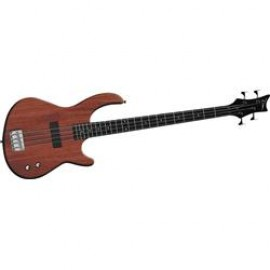ElectricGuitar: (1, 88, 268, 182)
